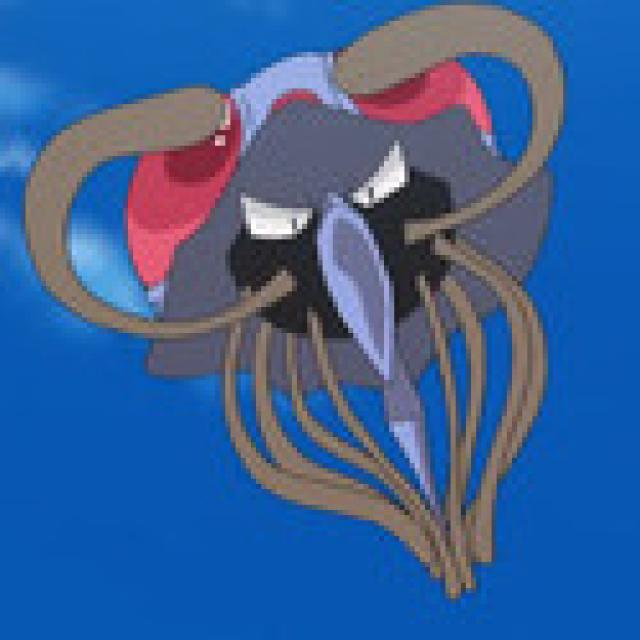Tentacruel: (118, 49, 534, 386)
